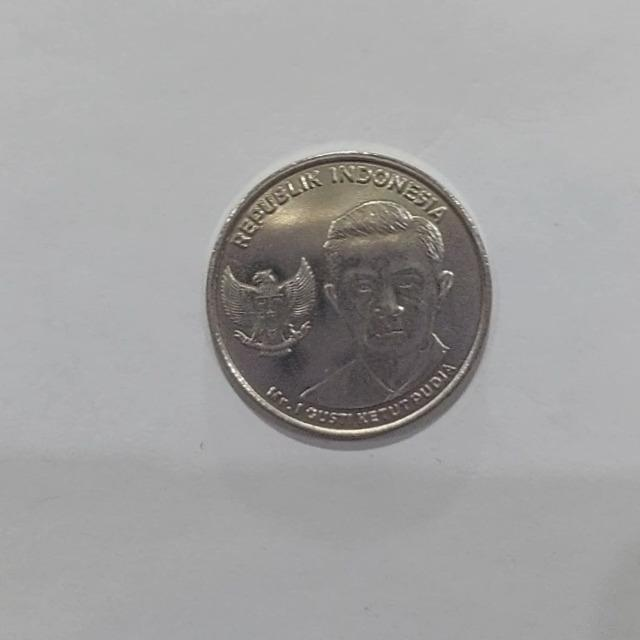Rp100: (204, 149, 493, 445), (289, 196, 458, 412)
